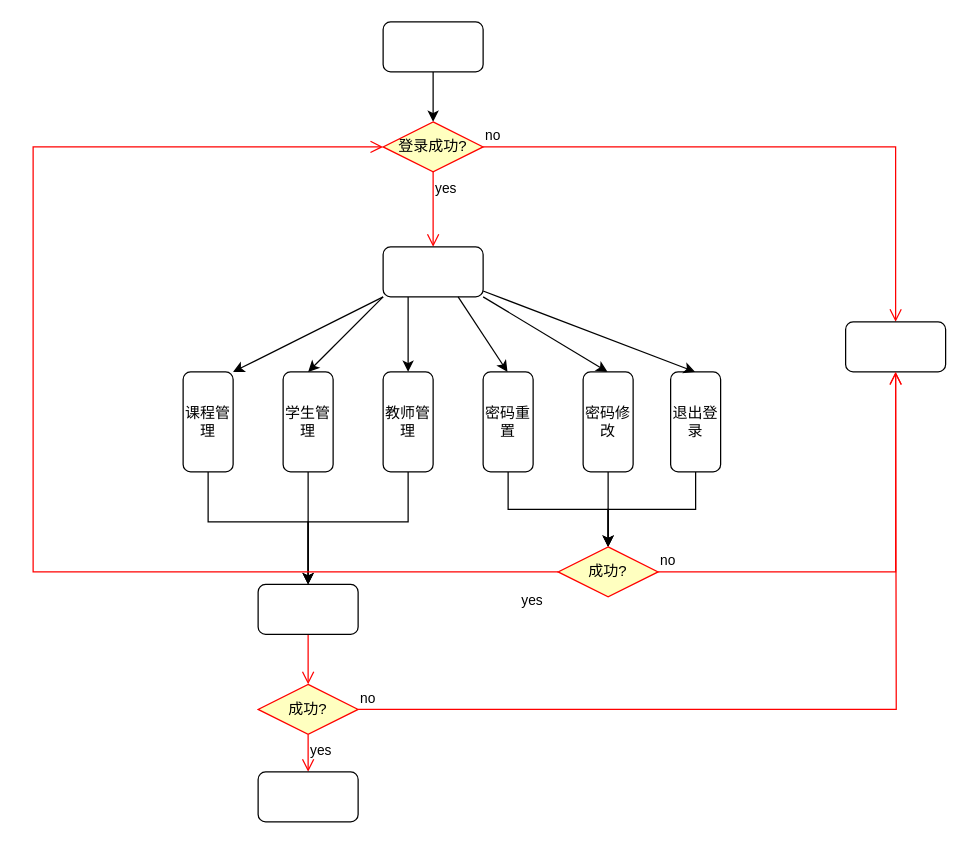
The diagram is 968 pixels wide and 844 high, and some of its shapes have lost their labels. Each missing label, with the centre of its shape:
"admin" goes at (432,46).
"增删改" goes at (307,608).
"教务管理系统" goes at (432,271).
"相应的管理页面" goes at (307,796).
"错误信息" goes at (895,346).
